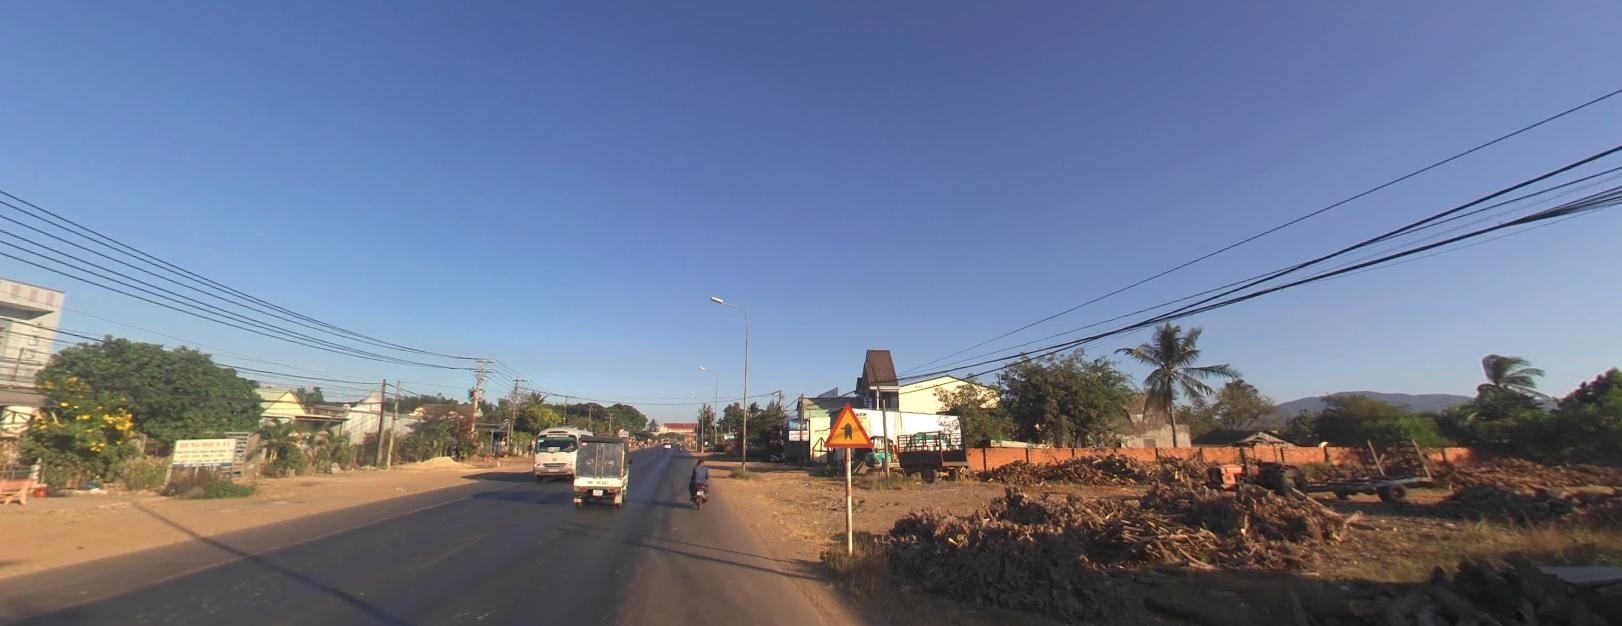Nguy hiem: (822, 400, 874, 446), (824, 400, 873, 446), (823, 400, 871, 445)
